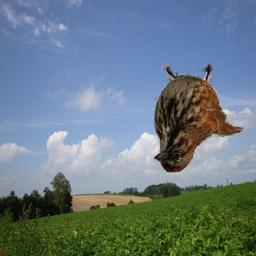Sparrow: (154, 63, 244, 176)
